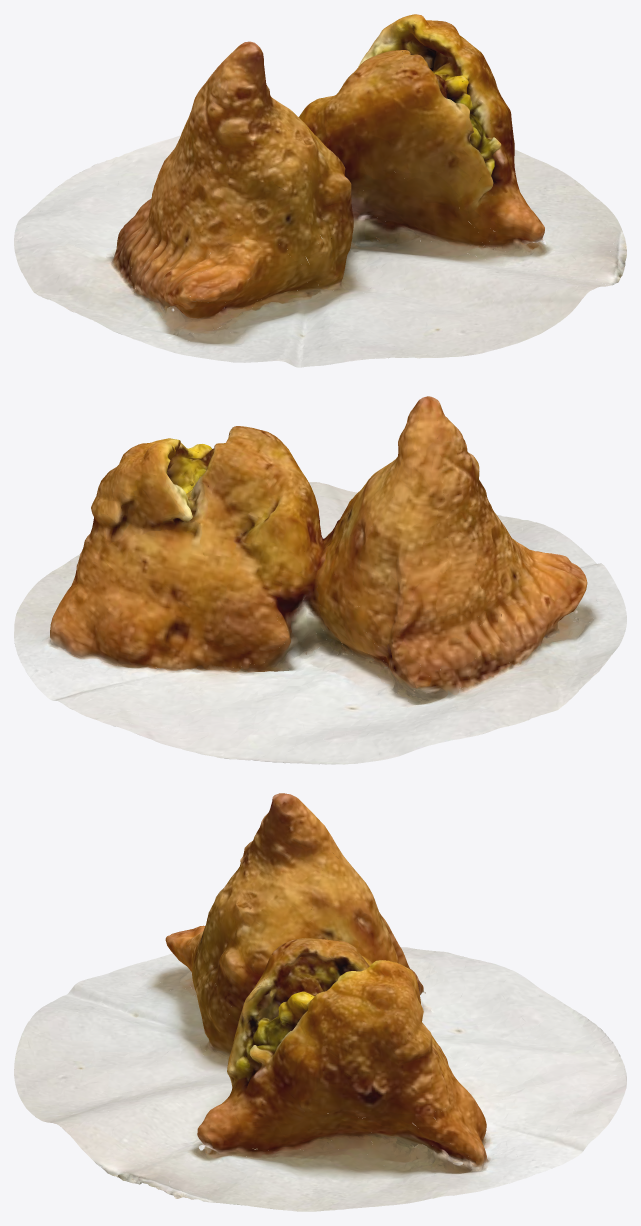
File: samosa.glb
The picture shows the model from 3 angles, top to bottom: view 1: azimuth 30°, elevation 25°; view 2: azimuth 150°, elevation 25°; view 3: azimuth 270°, elevation 25°; orthographic projection.
Parts seen in each view (by area): view 1: model_0; view 2: model_0; view 3: model_0.
Boxes of the visible parts, box(x1,y1,x2,y2) form: model_0: box(14, 14, 626, 367); model_0: box(14, 396, 626, 764); model_0: box(14, 793, 626, 1211).
Size of the model in its own units: 0.18 by 0.0809 by 0.1801.
1 material, 1 textured.
